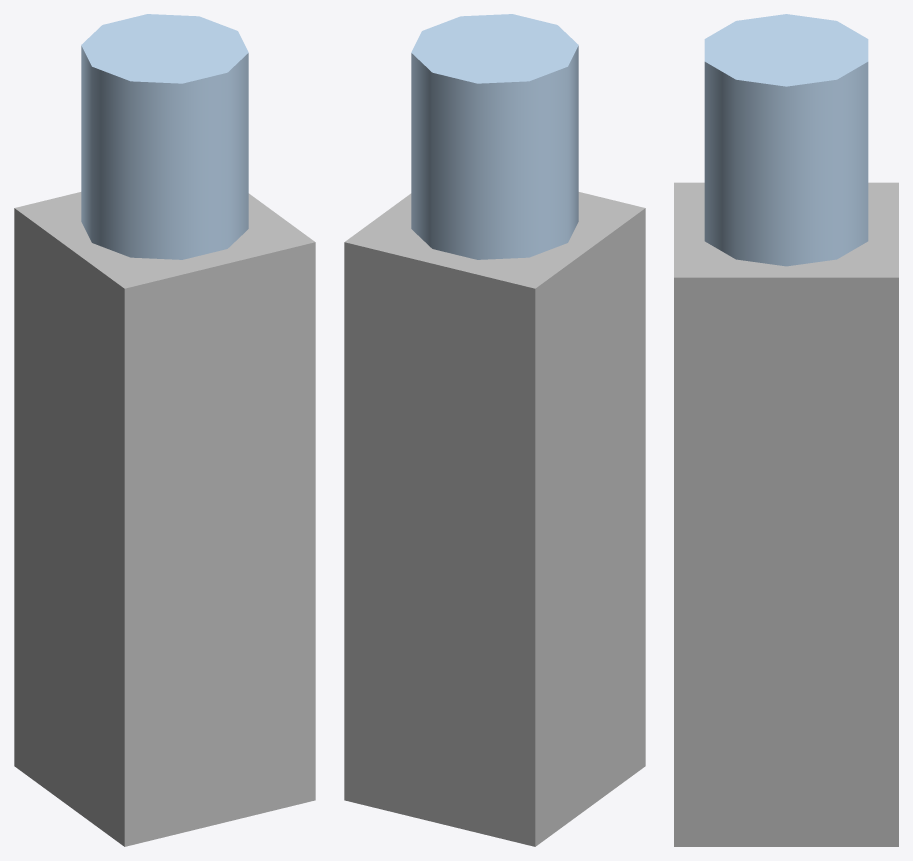
The model's file is water_cooler.gltf.
3 renders of one model, left to right at view 1: azimuth 30°, elevation 25°; view 2: azimuth 150°, elevation 25°; view 3: azimuth 270°, elevation 25°, orthographic.
Visible parts, largest first — view 1: water_cooler; view 2: water_cooler; view 3: water_cooler.
Boxes of the visible parts, bbox=[...] form: water_cooler: bbox=[14, 14, 315, 846]; water_cooler: bbox=[344, 14, 645, 846]; water_cooler: bbox=[674, 14, 898, 846].
Bounding box in the file's own units: 0.34 × 1.25 × 0.34.
